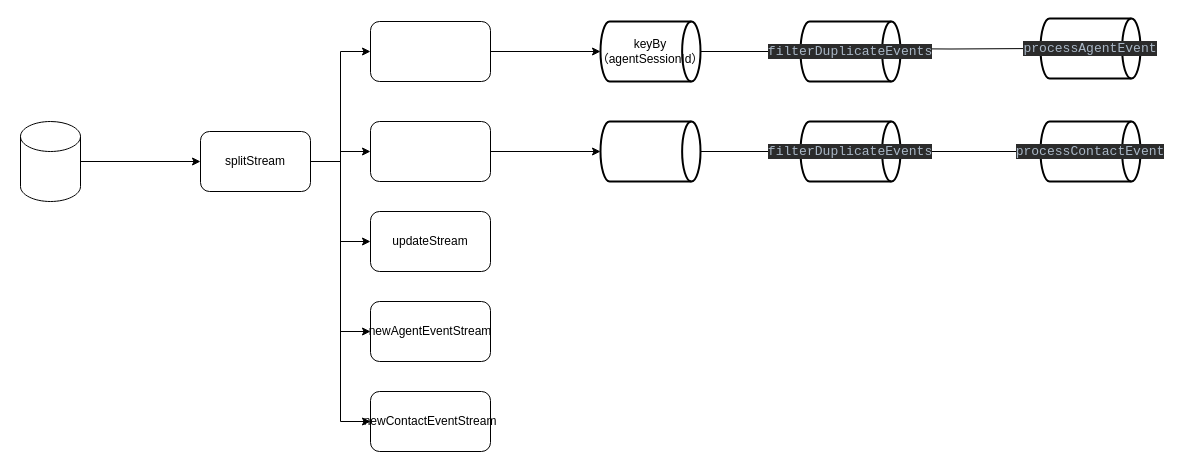
Image size: 1182x469. Some labels were removed from this diagram. The shapes that lost their labels are listed below. From the top down, each one's box as (x1, y1, x2, y2) in pixels, then its label:
(370, 20, 490, 82): agentStream
(20, 120, 80, 202): kafkaSource
(370, 120, 490, 182): contactStream
(599, 120, 701, 182): keyBy （entityId ）
